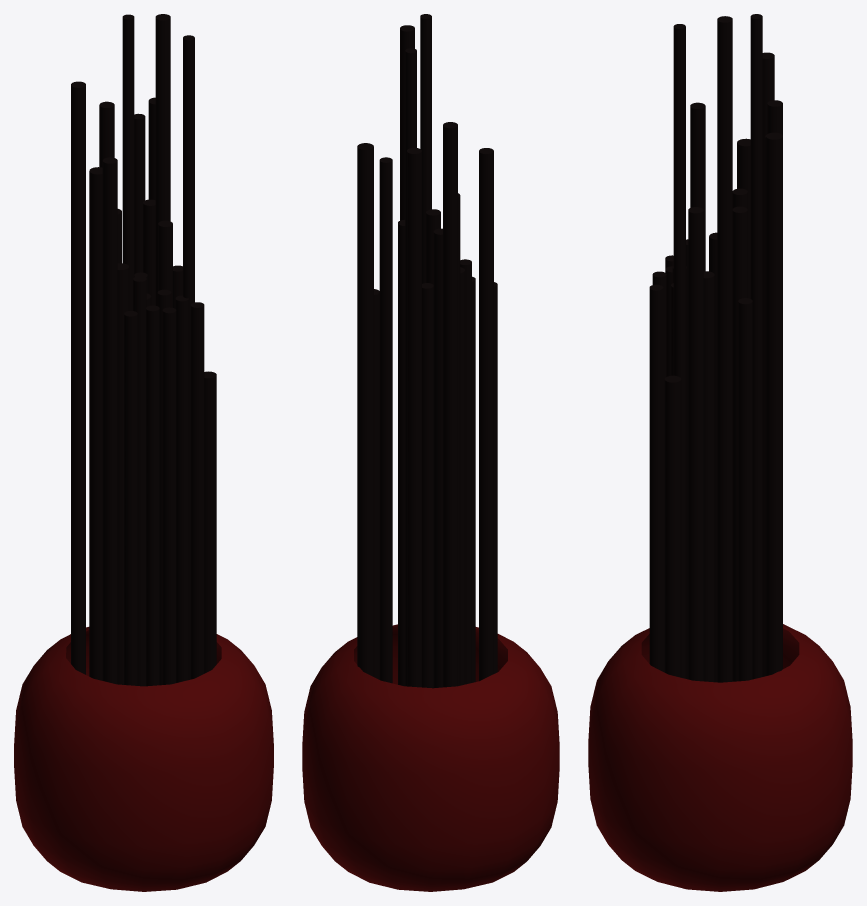
File: SM_Bamboo.fbx
The picture shows the model from 3 angles, left to right: view 1: azimuth 30°, elevation 25°; view 2: azimuth 150°, elevation 25°; view 3: azimuth 270°, elevation 25°; orthographic projection. The views are drawn at different scales.
Visible parts, largest first — view 1: Bamboo; view 2: Bamboo; view 3: Bamboo.
Part boxes in pixels (<box>): Bamboo: <box>14,14,273,891</box>; Bamboo: <box>302,14,559,891</box>; Bamboo: <box>588,14,852,891</box>.
Size of the model in its own units: 10.96 by 38.19 by 10.79.
